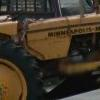Tractor: (15, 10, 100, 100)
